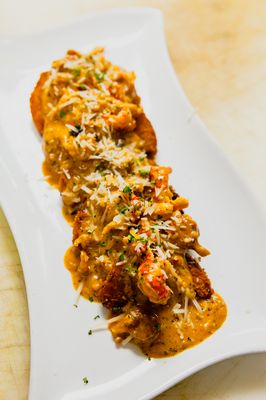sandwich: (27, 46, 224, 363)
